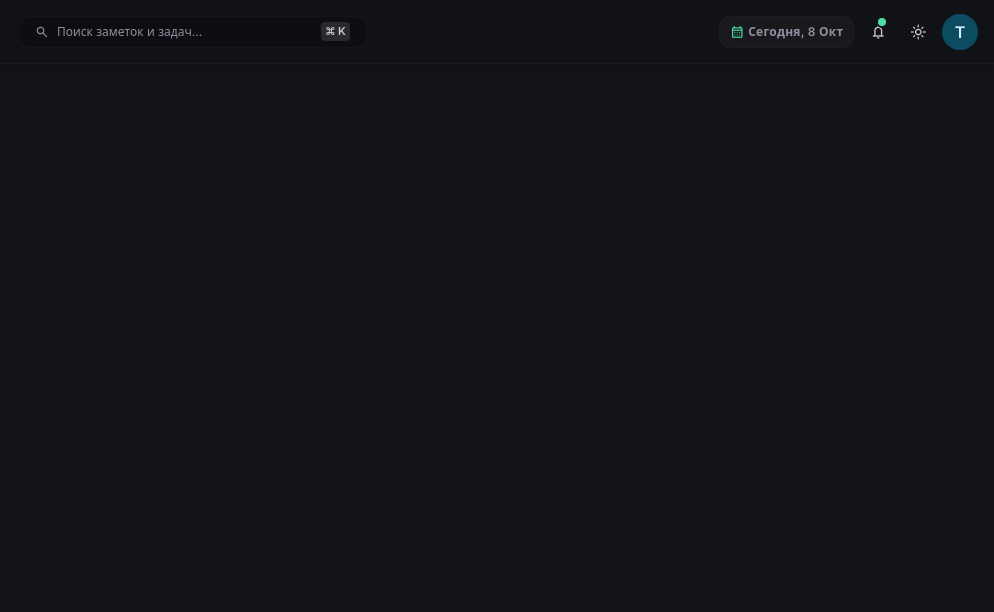
Header Component › opens the search widget from the header search field
This screenshot has width=994, height=612.
Step 1. Focus the dropdown labelled "Поиск заметок и задач" → (185, 32), box [57,22,313,40]
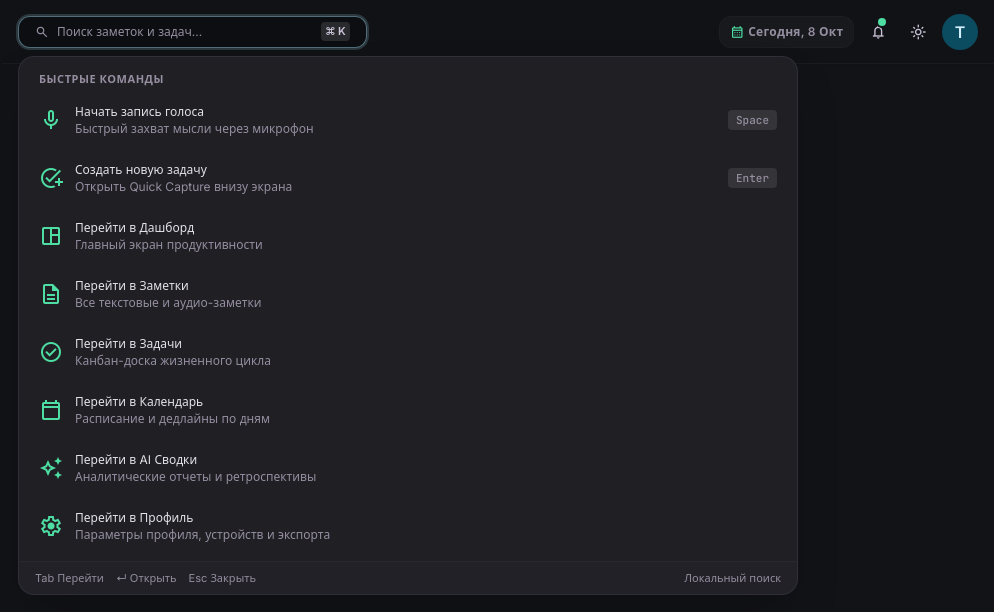
Now the element with test id "command-palette-widget" is shown
